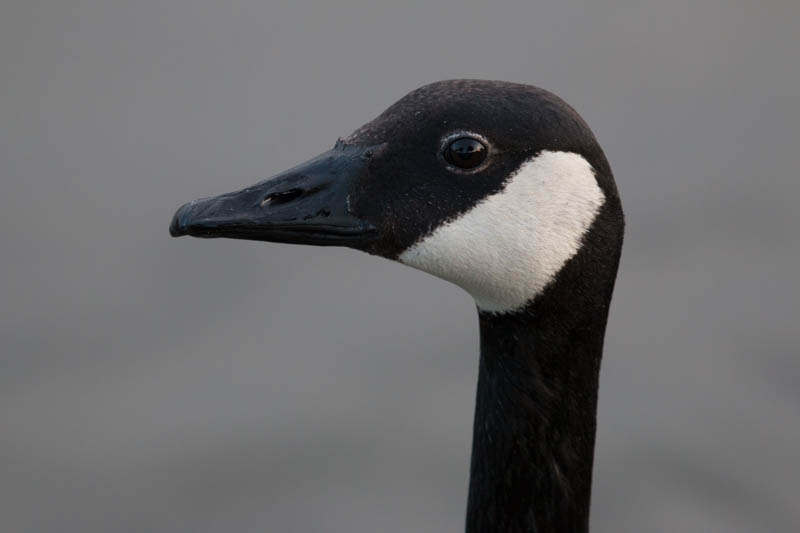goose-head: (167, 78, 626, 319)
